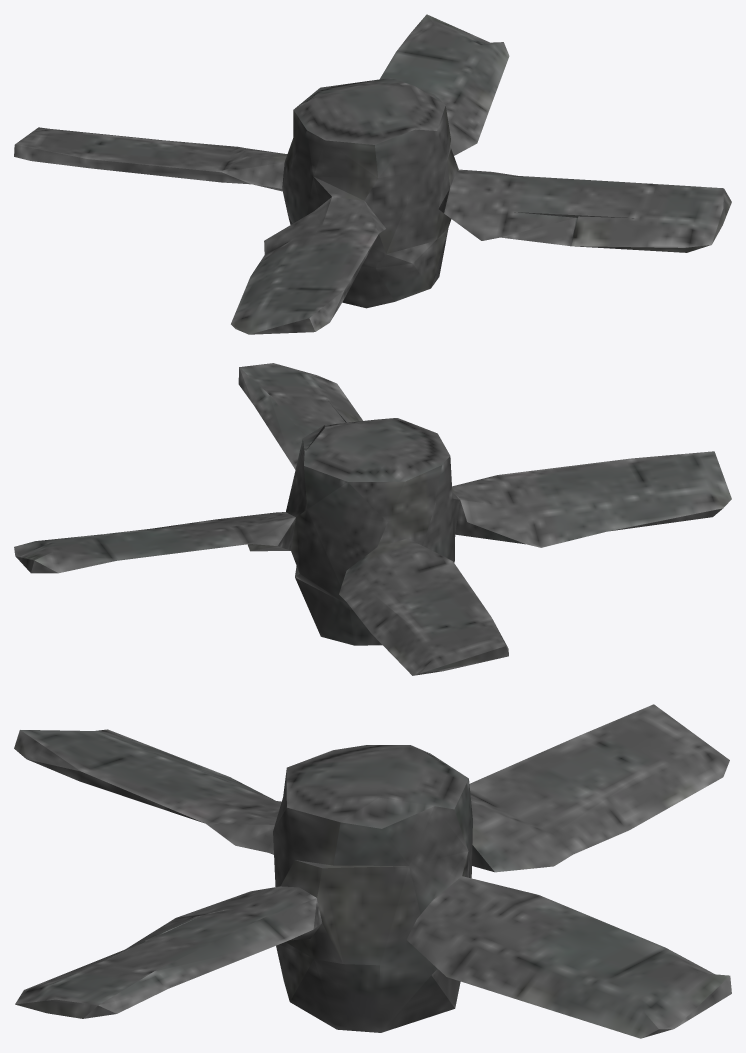
The model's file is unit.drone.rotor.glb.
The picture shows the model from 3 angles, top to bottom: view 1: azimuth 30°, elevation 25°; view 2: azimuth 150°, elevation 25°; view 3: azimuth 270°, elevation 25°; orthographic projection. The views are drawn at different scales.
Parts seen in each view (by area): view 1: body; view 2: body; view 3: body.
Boxes of the visible parts, bbox=[...] form: body: bbox=[14, 14, 731, 334]; body: bbox=[14, 363, 731, 675]; body: bbox=[14, 704, 731, 1038].
Size of the model in its own units: 0.1492 by 0.0522 by 0.1496.
1 material, 1 textured.
